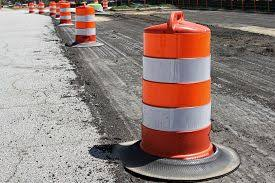barrel: (142, 21, 213, 155), (74, 6, 95, 41), (60, 3, 72, 23), (55, 1, 64, 17), (49, 2, 55, 15), (38, 3, 44, 14), (29, 2, 34, 12)
